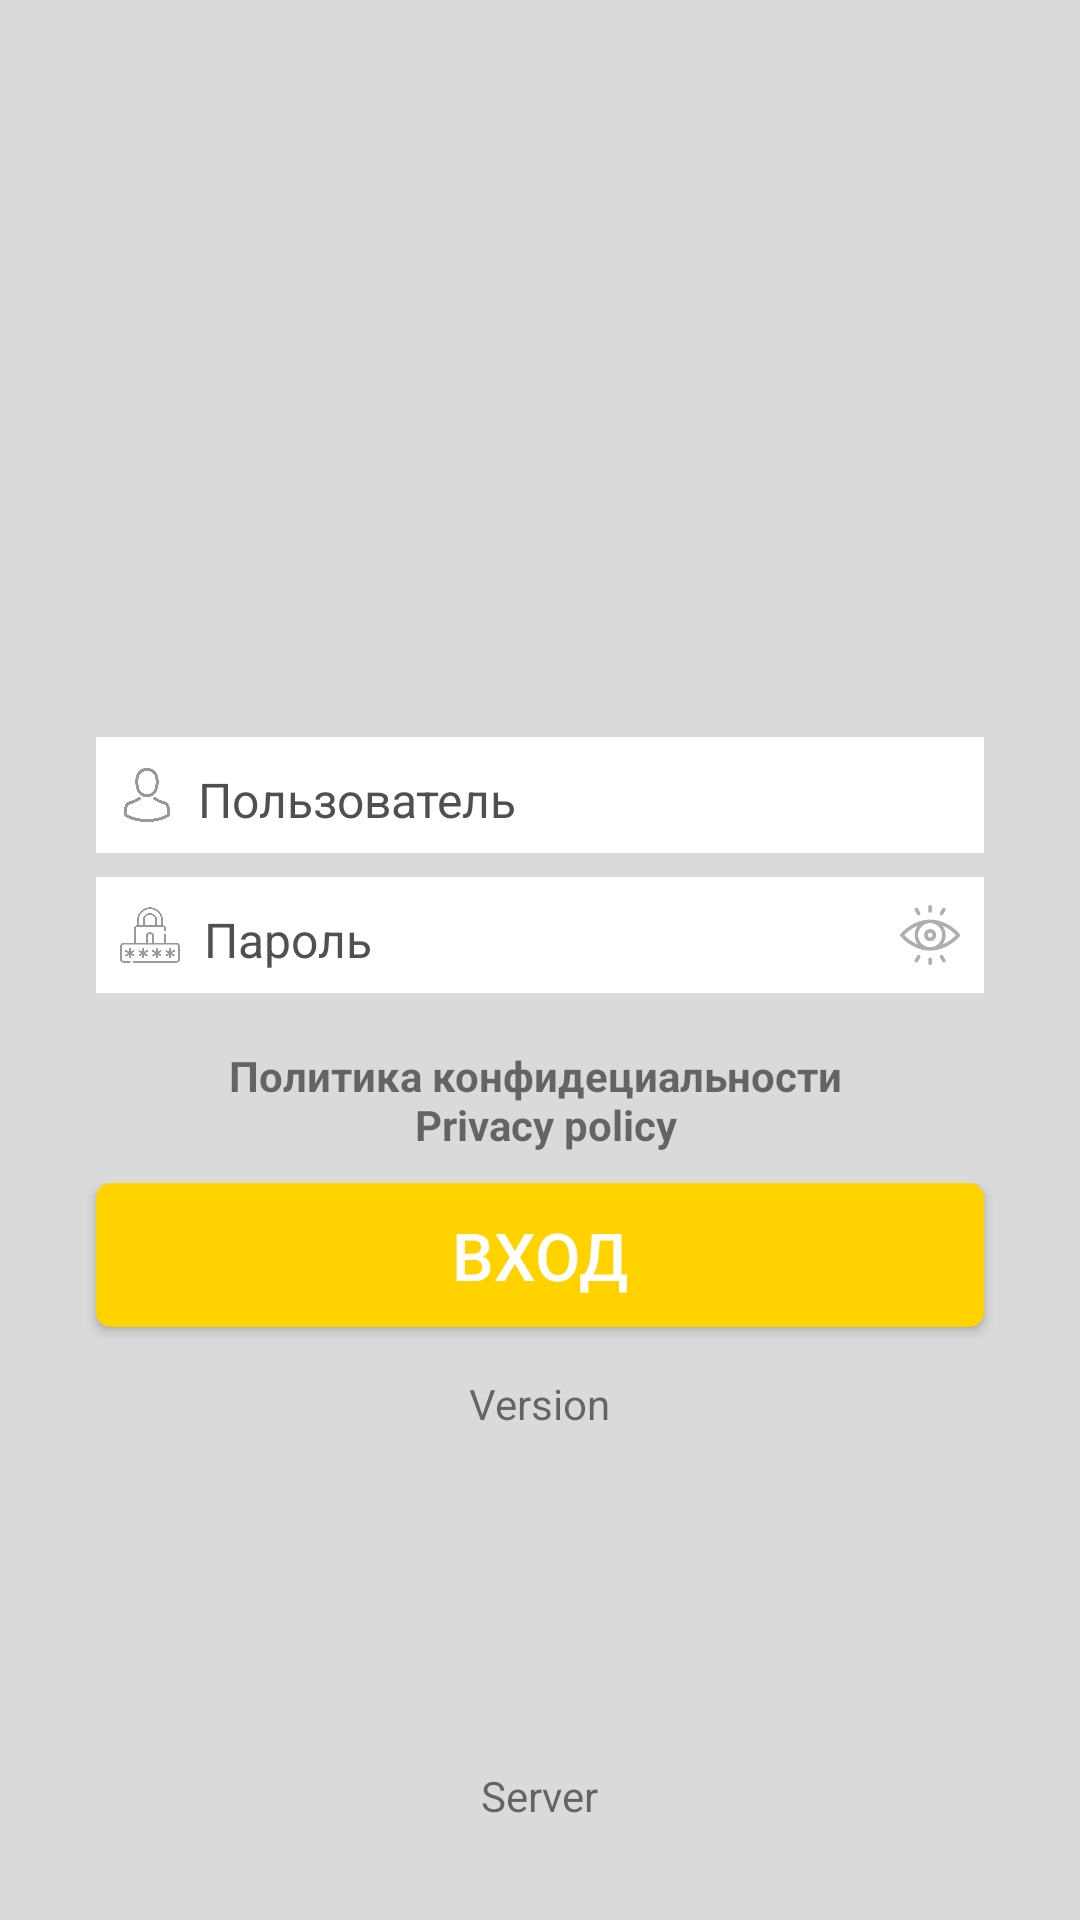

Icons on this 1080*1920 Android screen, each with the point to tap as (x=x, y=y):
eye: (x=930, y=935)
secure: (x=150, y=935)
